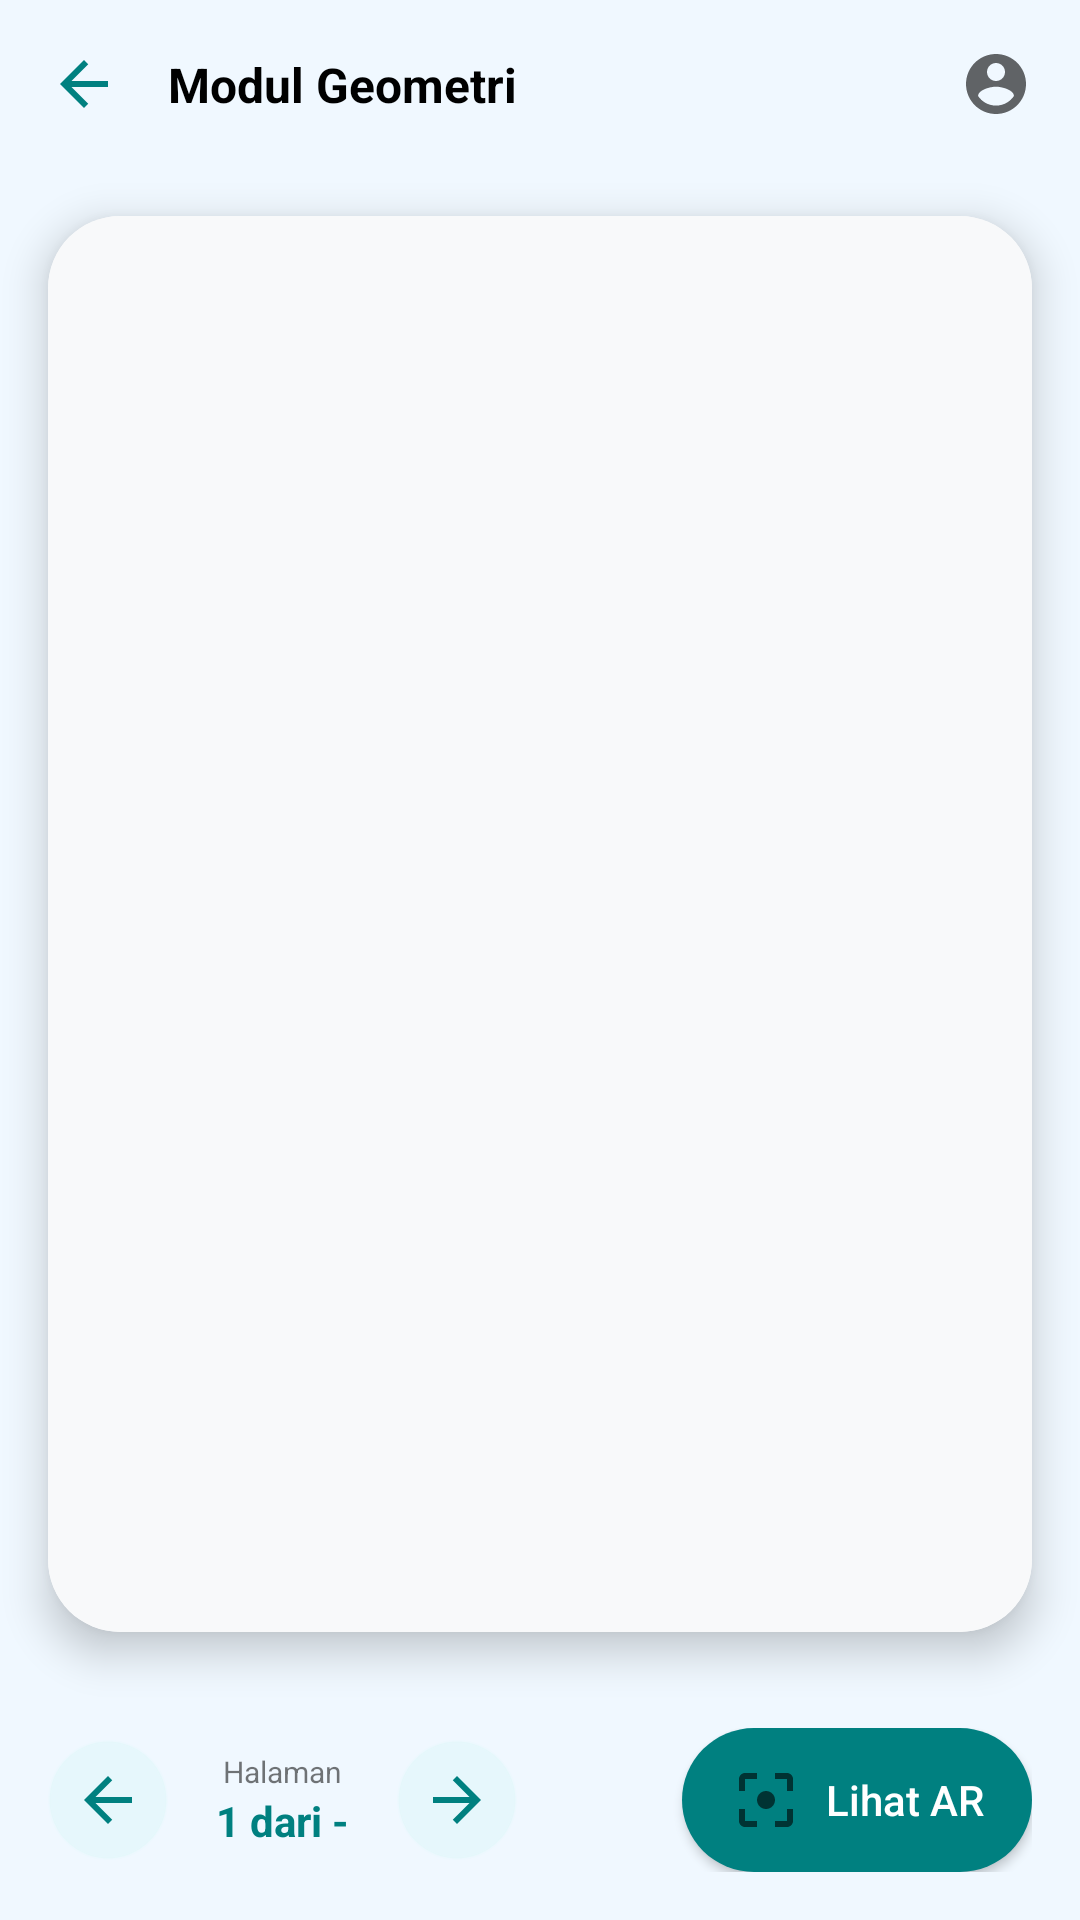

Screen size 1080px×1920px. Icon name, then its box in pixels as (left=x1, top=y1, right=x2, bottom=y2):
profile: (left=966, top=54, right=1026, bottom=114)
